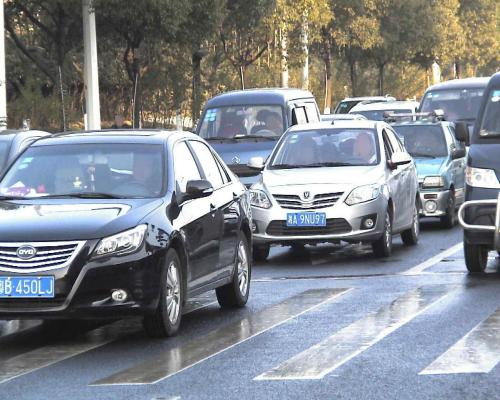Carplate: (282, 208, 334, 230)
